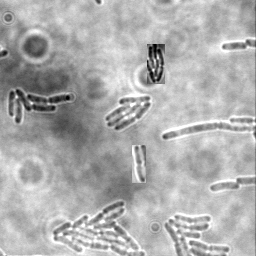Dividing: (161, 123, 255, 142), (132, 145, 146, 183), (221, 41, 248, 52)
Microcolony: (51, 200, 147, 255), (162, 212, 231, 255), (8, 89, 72, 126), (106, 96, 153, 132), (147, 44, 165, 84), (208, 182, 240, 193)
